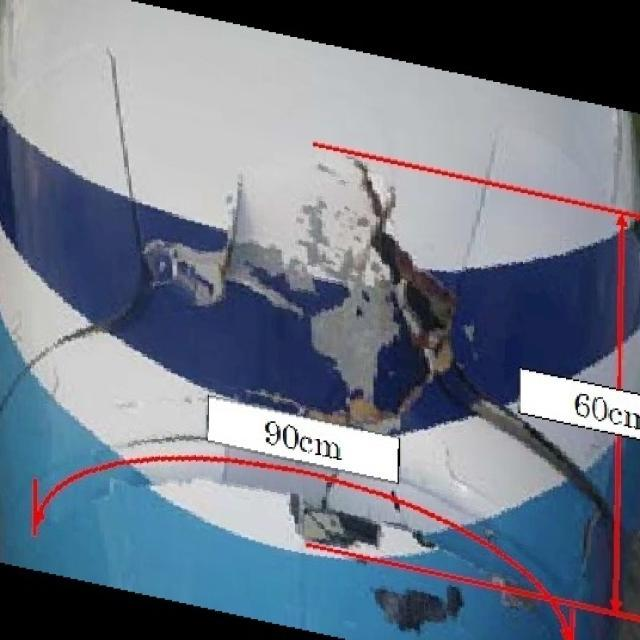crack: (347, 158, 611, 572), (182, 167, 258, 318)
